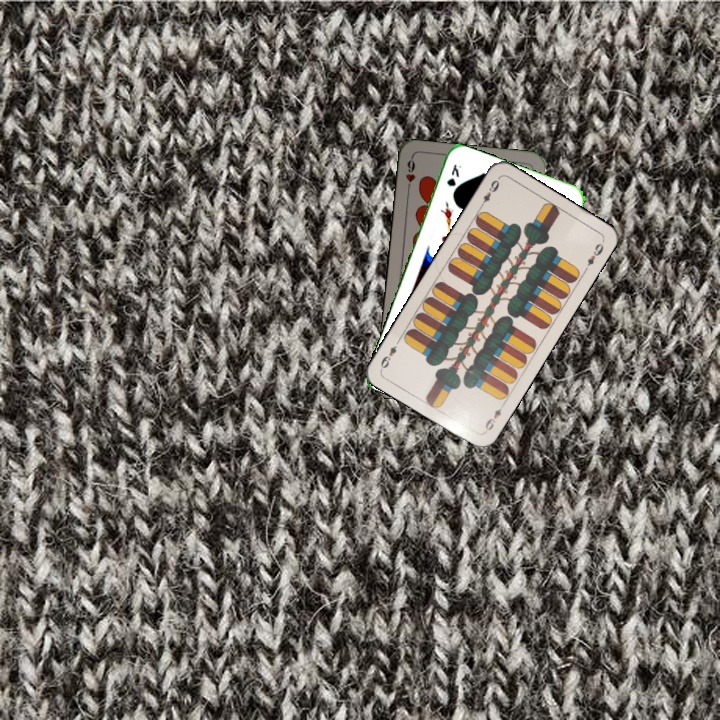E9: (476, 174, 502, 211), (480, 404, 504, 435)
GK: (443, 160, 464, 189)
H9: (402, 154, 418, 195)
